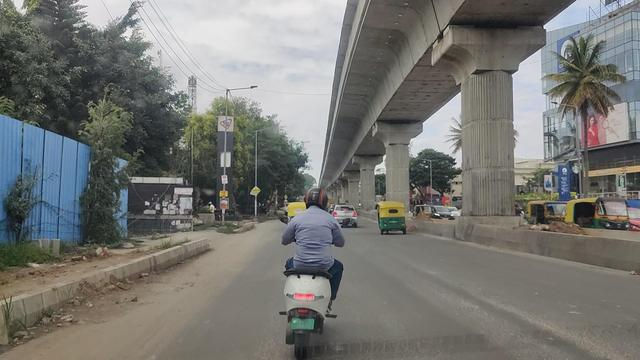LMV: (276, 175, 337, 360), (380, 197, 408, 233), (331, 201, 359, 228)
